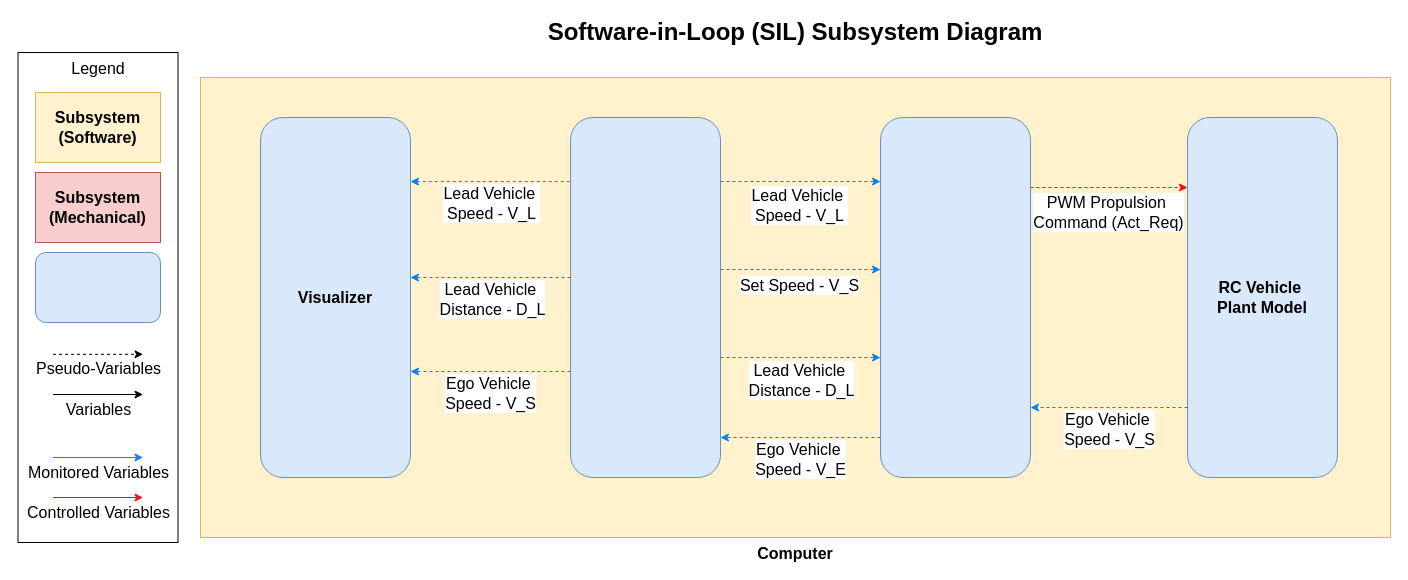
The diagram is 1408 pixels wide and 580 high, and some of its shapes have lost their labels. The centre of each missing label's shape, as x and y in pixels:
ACC Algorithm: the point at 955,297
Environmental Simulator: the point at 645,297
Moudule: the point at 97,287
